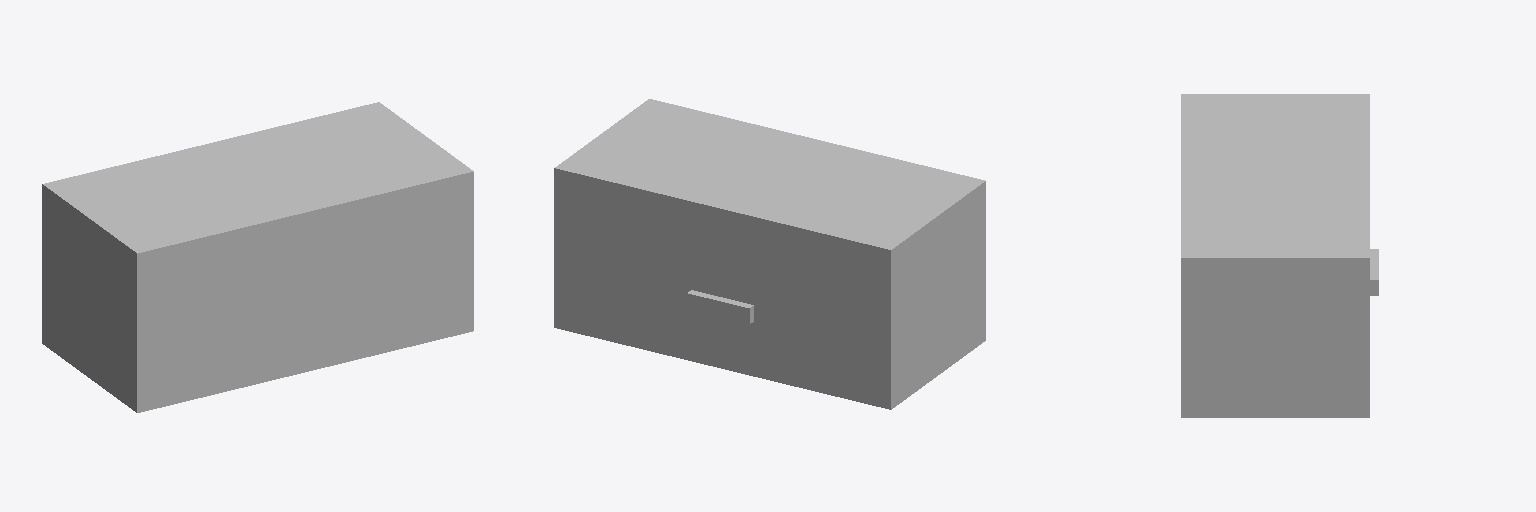
The model's file is kitchenCabinetUpperLow.obj.
3 renders of one model, left to right at view 1: azimuth 30°, elevation 25°; view 2: azimuth 150°, elevation 25°; view 3: azimuth 270°, elevation 25°, orthographic.
Visible parts, largest first — view 1: kitchenCabinetUpperLow; view 2: kitchenCabinetUpperLow, door; view 3: kitchenCabinetUpperLow.
Boxes of the visible parts, <box> form: kitchenCabinetUpperLow: <box>42,102,473,412</box>; kitchenCabinetUpperLow: <box>554,99,985,409</box>; door: <box>575,195,869,382</box>; kitchenCabinetUpperLow: <box>1181,94,1369,417</box>.
Size of the model in its own units: 0.43 by 0.195 by 0.22.